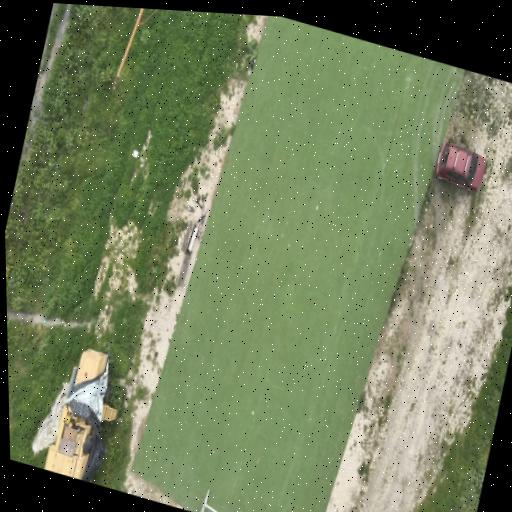car: (436, 141, 486, 190)
harvester: (45, 349, 117, 482)
